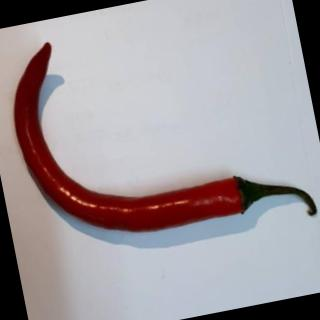Cabai Merah: (1, 1, 320, 278)
